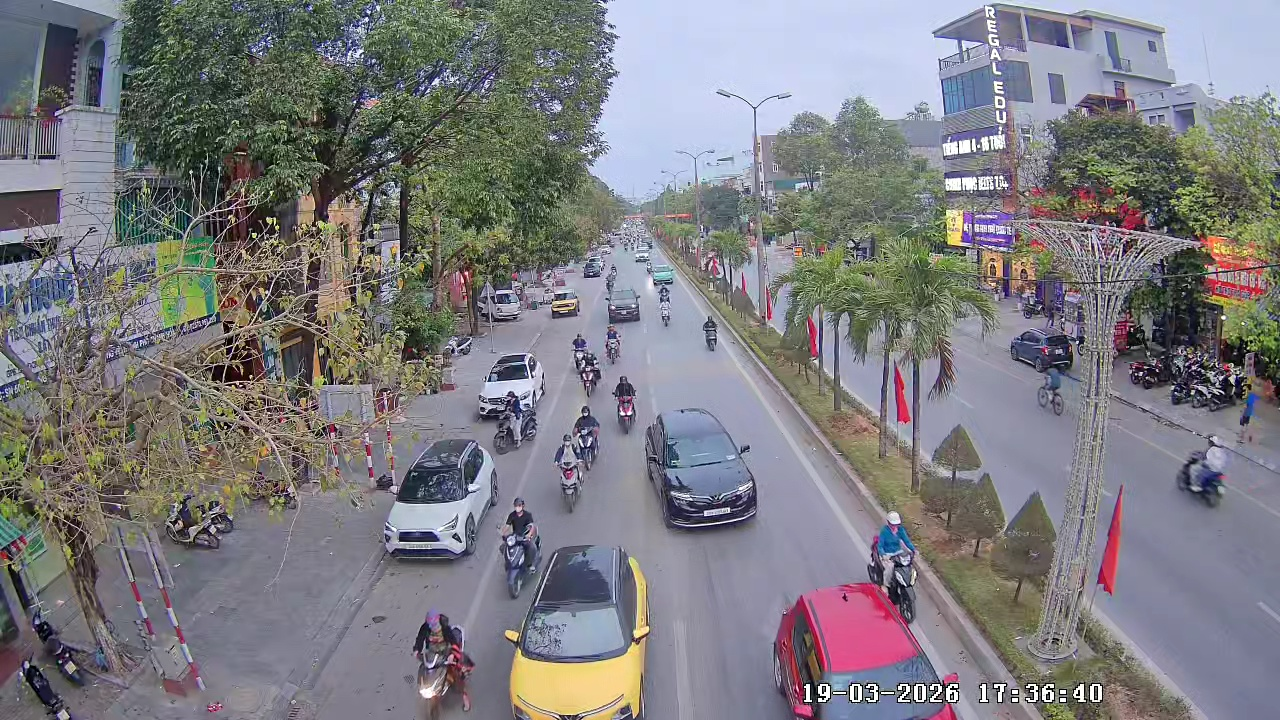car: (504, 542, 654, 719), (768, 582, 961, 719), (382, 437, 500, 560), (644, 408, 761, 530), (475, 352, 544, 420), (1008, 328, 1074, 370), (608, 286, 642, 322), (551, 288, 582, 318), (652, 264, 673, 289)
motorbike: (407, 609, 477, 719), (867, 510, 922, 623), (496, 495, 542, 598), (1176, 435, 1230, 509), (554, 432, 587, 514), (492, 389, 527, 451), (572, 404, 602, 470), (612, 373, 637, 434), (1038, 369, 1066, 416), (582, 347, 603, 395), (604, 323, 623, 366), (570, 332, 588, 377), (701, 315, 719, 352), (658, 296, 672, 327)
